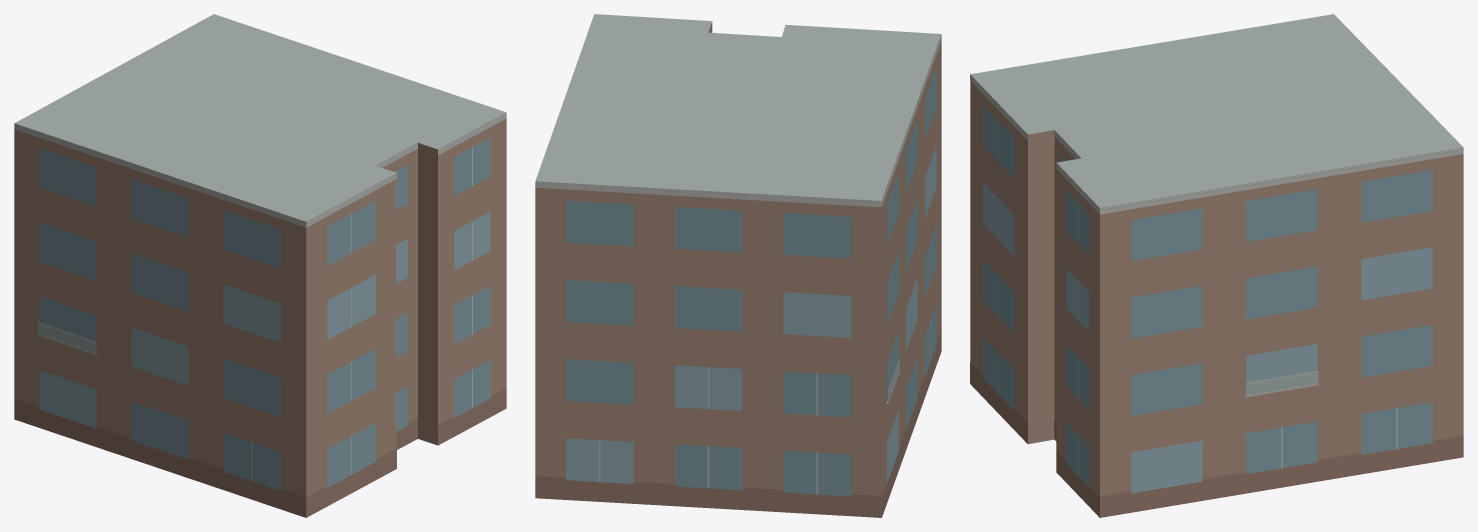
Rendered from survey-upis-32904954.glb.
The picture shows the model from 3 angles, left to right: view 1: azimuth 30°, elevation 25°; view 2: azimuth 150°, elevation 25°; view 3: azimuth 270°, elevation 25°; orthographic projection. The views are drawn at different scales.
Visible parts, largest first — view 1: survey-upis-32904954.tmp; view 2: survey-upis-32904954.tmp; view 3: survey-upis-32904954.tmp.
Boxes of the visible parts, x1=… form: survey-upis-32904954.tmp: x1=14, y1=14, x2=506, y2=517; survey-upis-32904954.tmp: x1=535, y1=14, x2=941, y2=517; survey-upis-32904954.tmp: x1=970, y1=14, x2=1463, y2=517.
Size of the model in its own units: 16.01 by 11.9 by 17.2.
